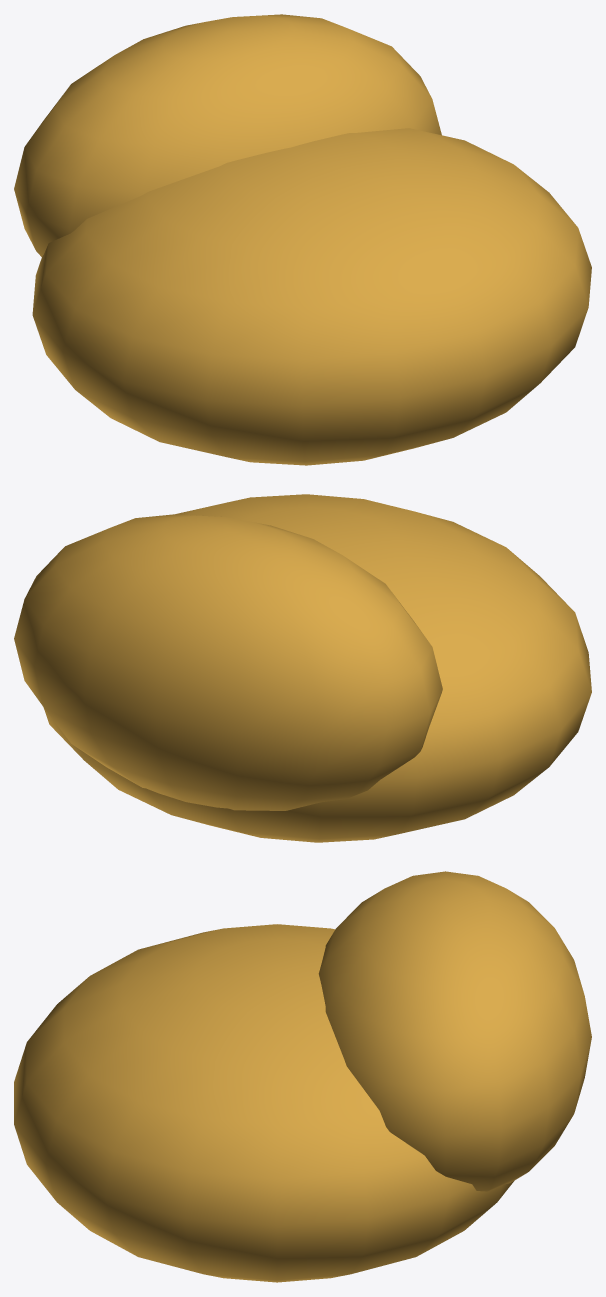
The model's file is beanbag.glb.
3 views of the same model, one above another, from view 1: azimuth 30°, elevation 25°; view 2: azimuth 150°, elevation 25°; view 3: azimuth 270°, elevation 25° (orthographic).
Visible parts, largest first — view 1: FURN-beanbag; view 2: FURN-beanbag; view 3: FURN-beanbag.
Boxes of the visible parts, box(x1,y1,x2,y2) form: FURN-beanbag: box(14, 14, 591, 465); FURN-beanbag: box(14, 494, 591, 842); FURN-beanbag: box(14, 871, 591, 1282).
Size of the model in its own units: 0.79 by 0.5 by 0.7894.
